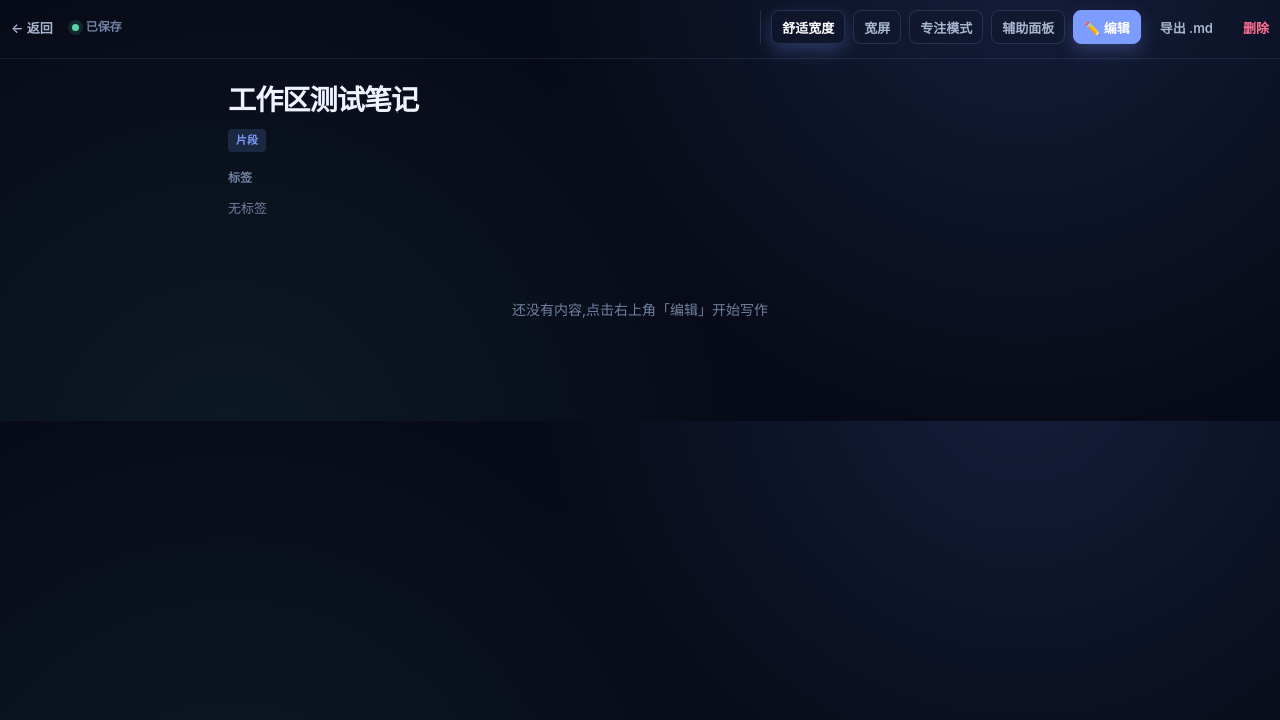
Scenario: EditorPage workspace controls and local save state › restores only the persisted open assistant-panel preference after remounting
The width and height of the screenshot is (1280, 720).
What coordinates should you click on to do the following:
click the button "辅助面板"
I would click on:
 (1028, 27)
Its box is [991, 10, 1065, 44].
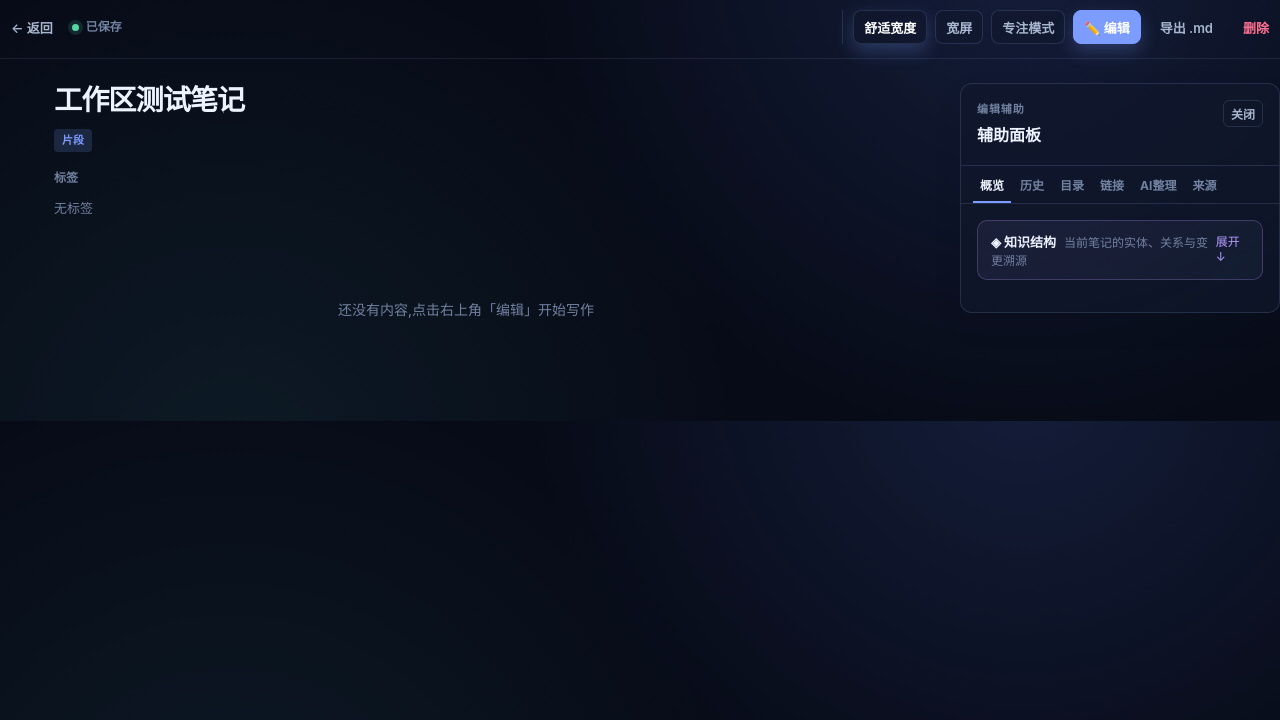
expect the element named "编辑辅助面板" is shown: met, box [960, 83, 1279, 313]
